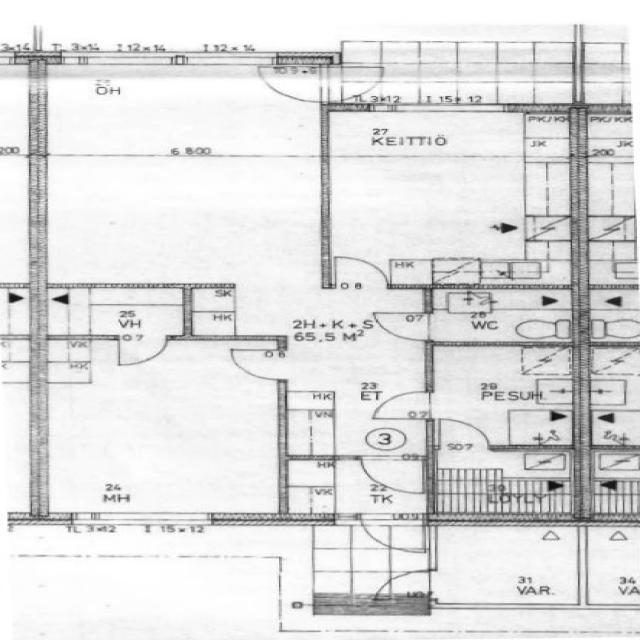door: (279, 290, 430, 412), (428, 285, 578, 344), (39, 286, 187, 337), (353, 454, 432, 497), (354, 517, 431, 555), (374, 568, 440, 602)
window: (72, 510, 216, 531)
zone: (326, 107, 580, 289), (37, 339, 284, 518), (39, 151, 330, 289), (35, 57, 331, 154), (428, 343, 580, 450), (429, 448, 578, 522), (318, 252, 398, 290), (427, 415, 496, 451), (256, 69, 329, 102), (364, 389, 439, 421), (224, 348, 288, 382), (368, 312, 436, 343), (115, 334, 170, 368), (328, 71, 387, 102)
